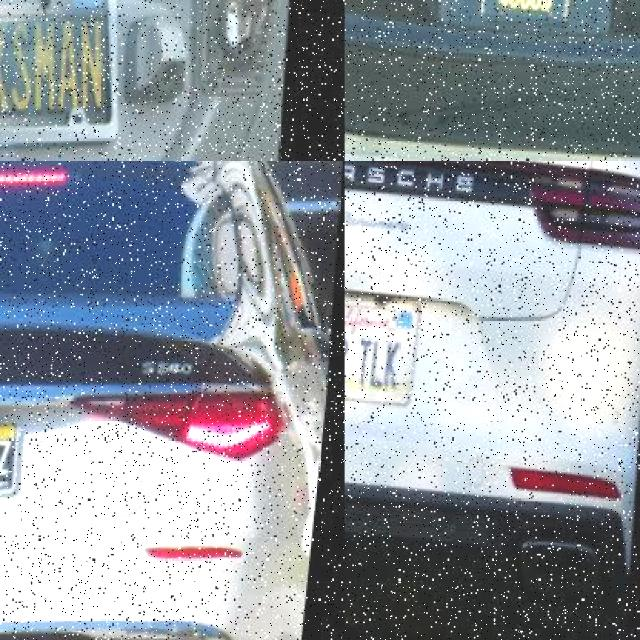licenseplate: (345, 284, 429, 410), (482, 0, 583, 49), (0, 418, 27, 494)
